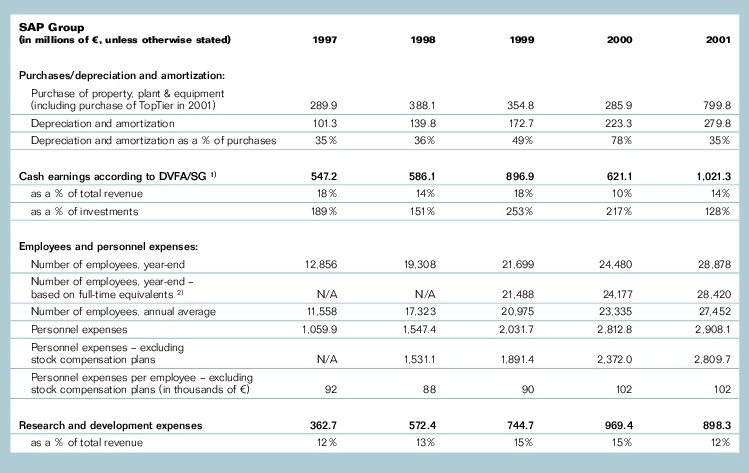table: (0, 0, 749, 473)
